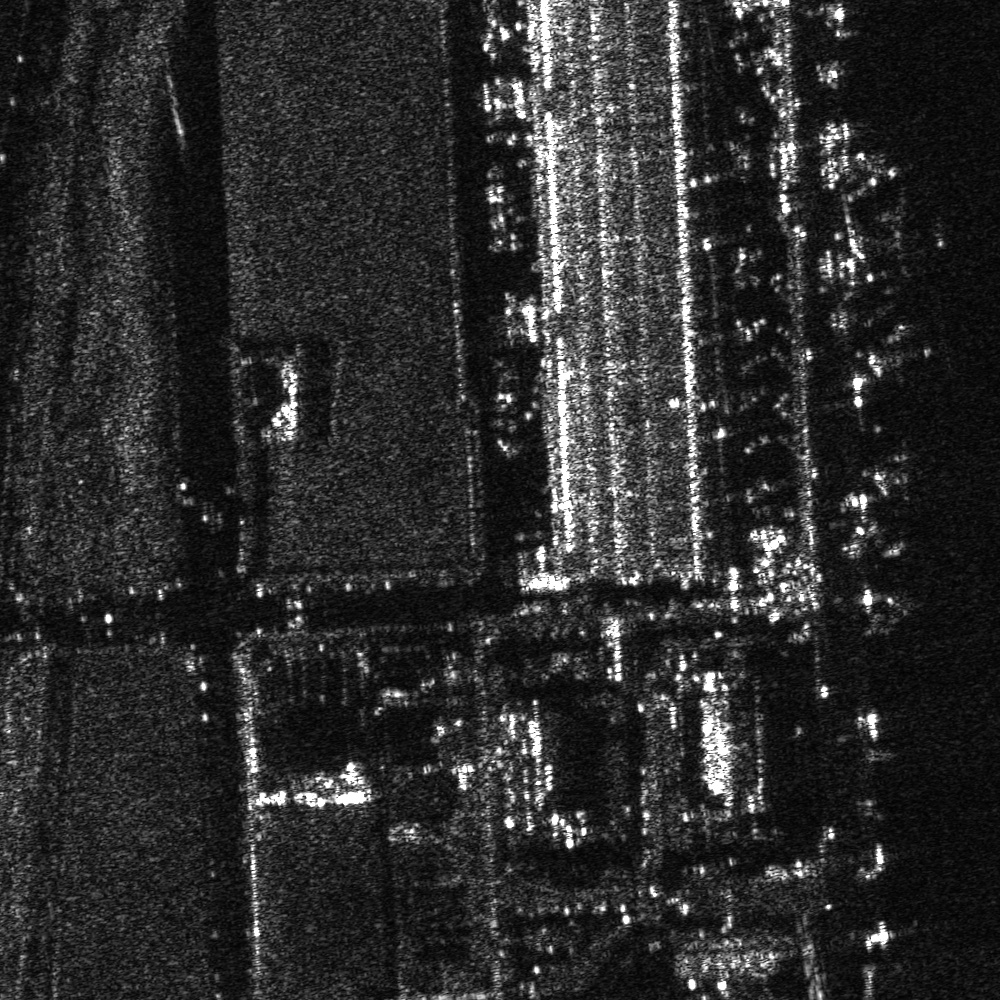A220: (842, 181, 953, 287)
other: (859, 311, 945, 395)
